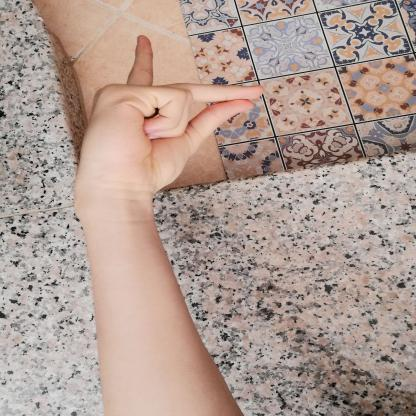TAA: (64, 28, 274, 212)
